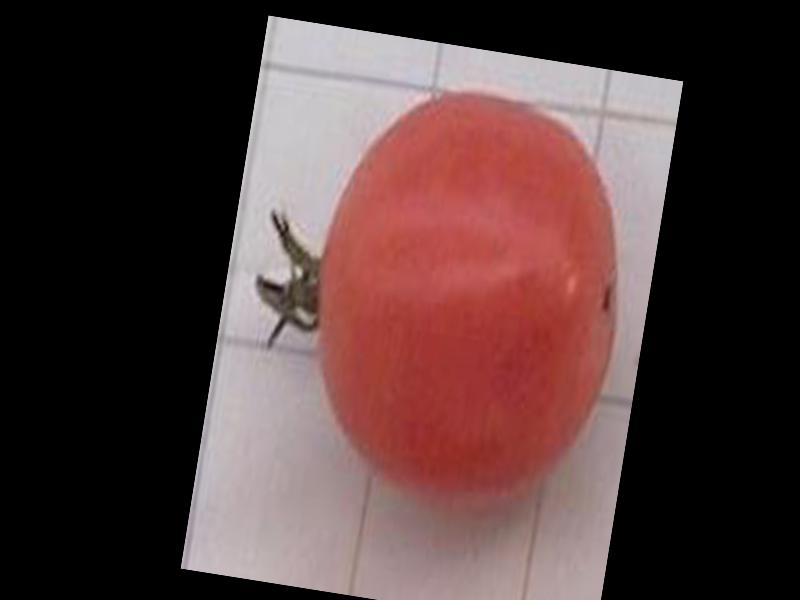Tomato: (288, 74, 649, 525)
